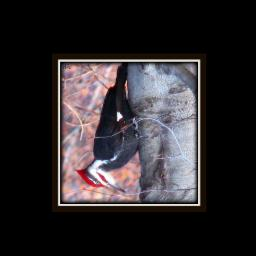Woodpecker: (75, 62, 149, 193)
